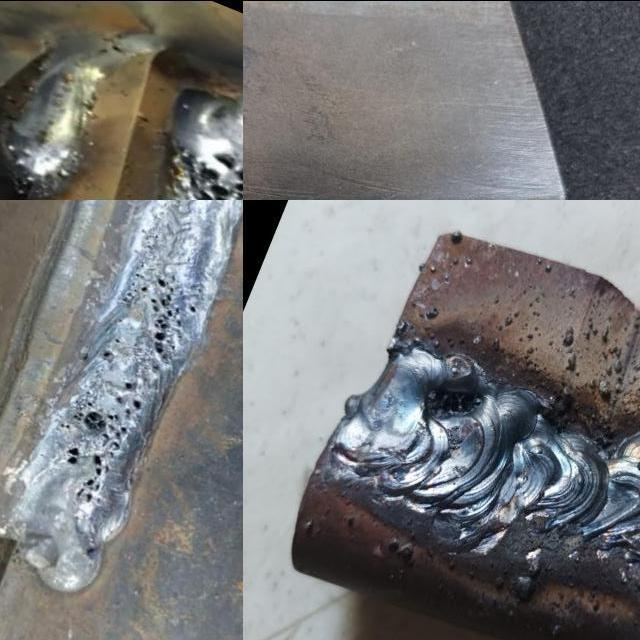defect: (60, 376, 147, 513), (135, 269, 201, 366), (426, 385, 485, 421), (98, 341, 118, 366), (445, 426, 464, 450)
